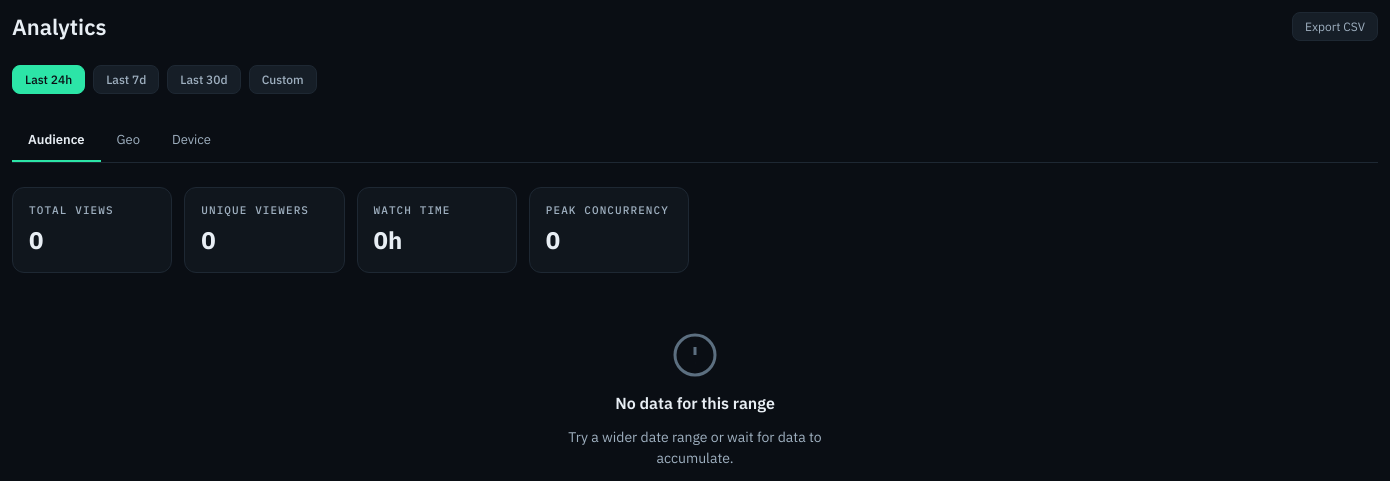
Test: AnalyticsPage rendering › (e) geo tab — shows no geo data empty state
Click the tab "Geo": click(128, 140) [100,118,156,162]
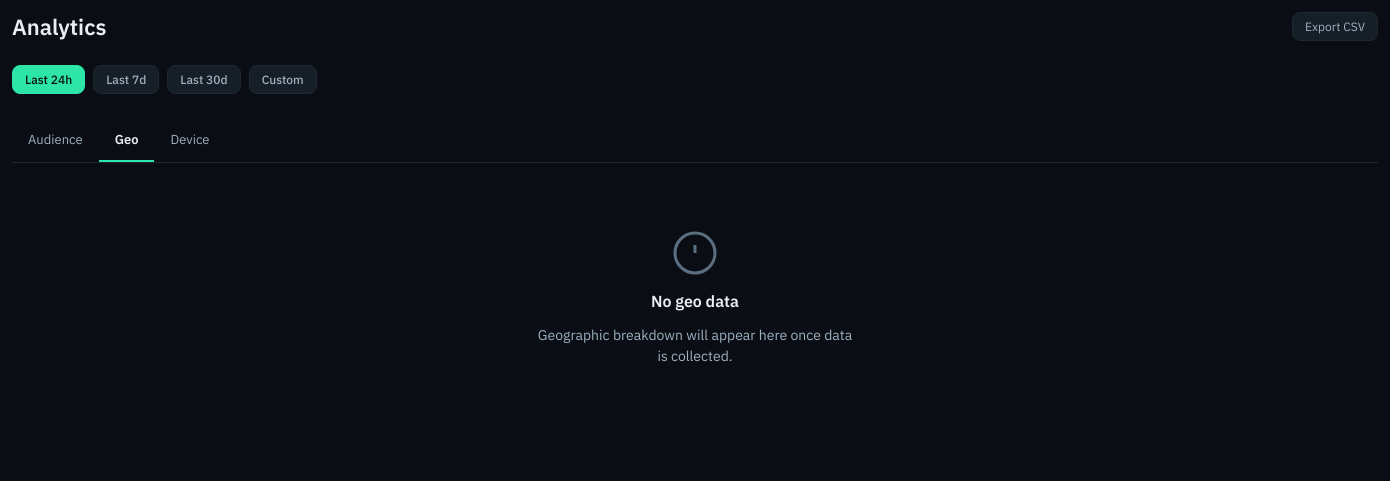
expect the heading "No geo data" is shown: met, box [651,289,739,313]
